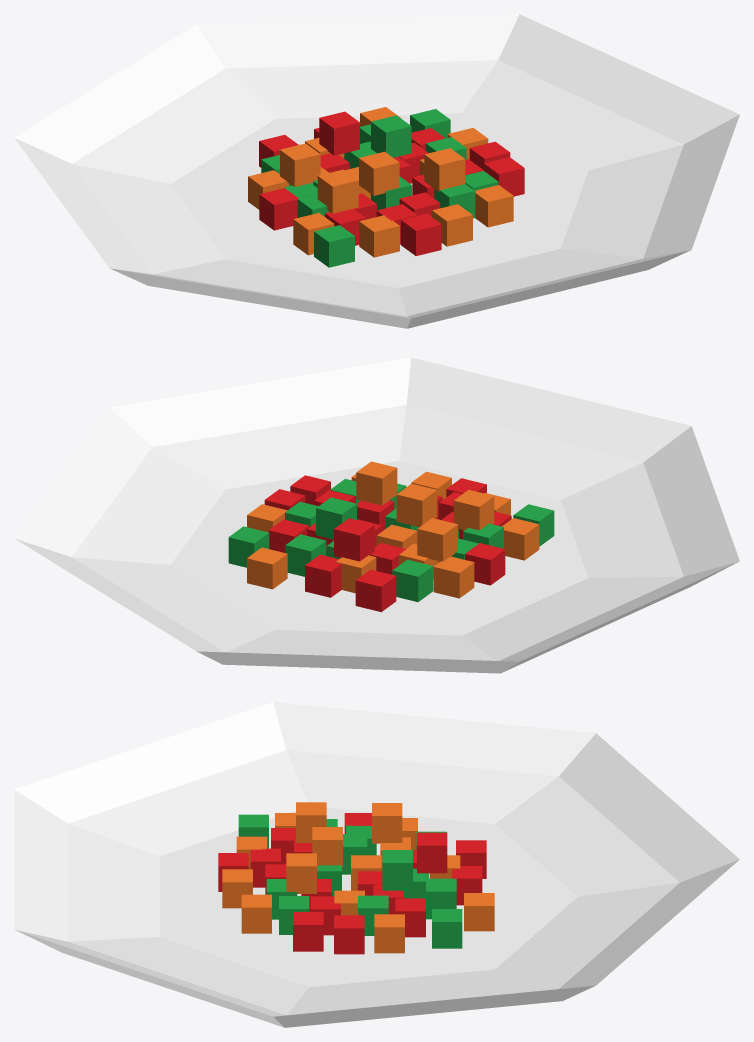
File: salad.fbx
The picture shows the model from 3 angles, top to bottom: view 1: azimuth 30°, elevation 25°; view 2: azimuth 150°, elevation 25°; view 3: azimuth 270°, elevation 25°; orthographic projection. The views are drawn at different scales.
Parts seen in each view (by area): view 1: Cylinder; view 2: Cylinder; view 3: Cylinder.
Boxes of the visible parts, x1,y1,x2,y2 form: Cylinder: (14, 14, 739, 328); Cylinder: (14, 357, 739, 673); Cylinder: (14, 702, 739, 1027).
Bounding box in the file's own units: 195 × 19.14 × 190.
